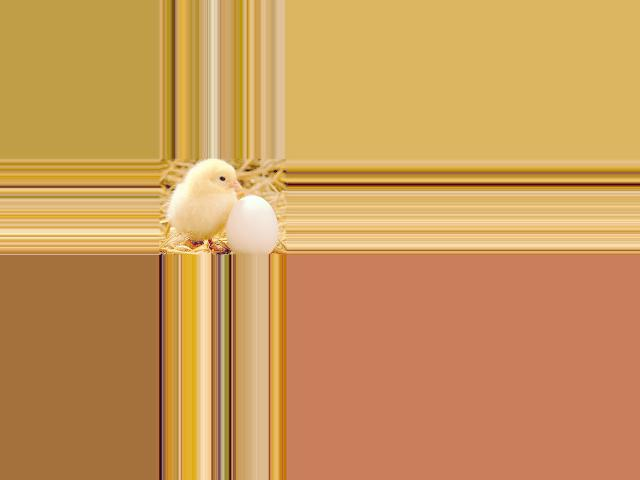egg: (225, 195, 277, 255)
